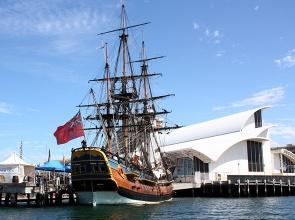fanchuan: (67, 1, 178, 206)
